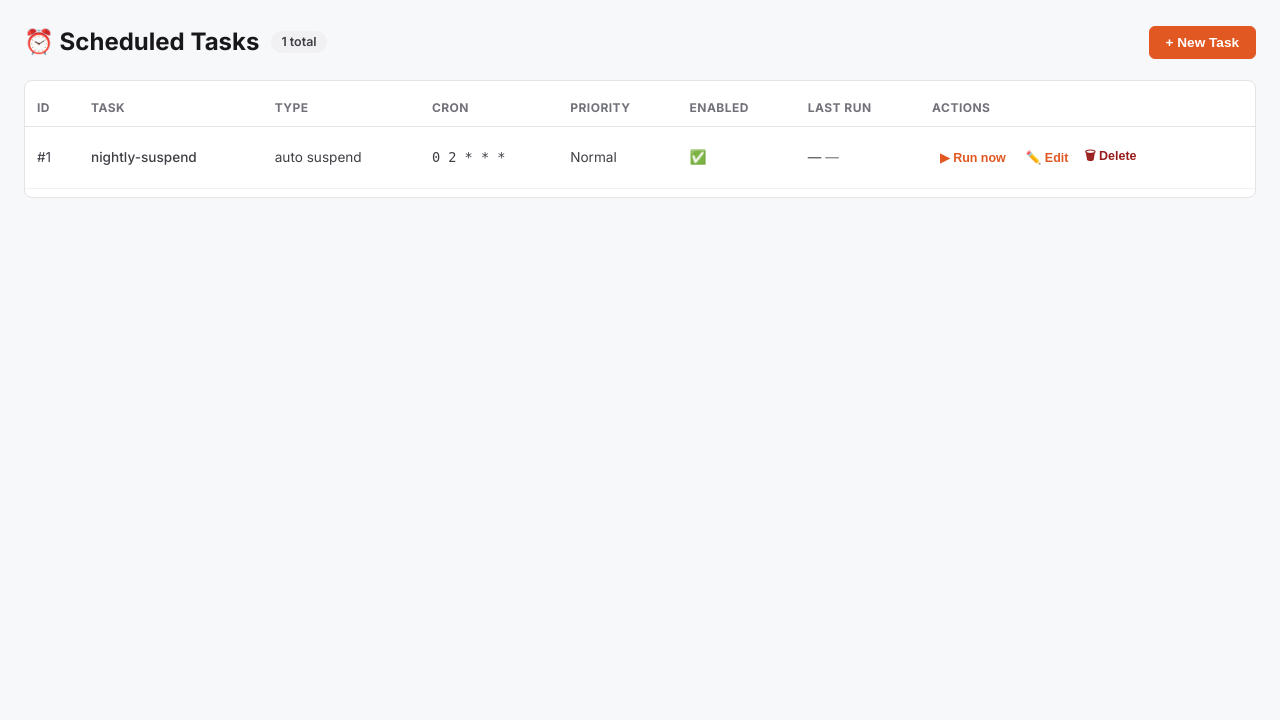
Scenario: ScheduledTaskList page › confirms, shows pending state, runs the selected task, and renders its result
Click the button "▶ Run now".
click(973, 158)  # box [932, 138, 1014, 178]
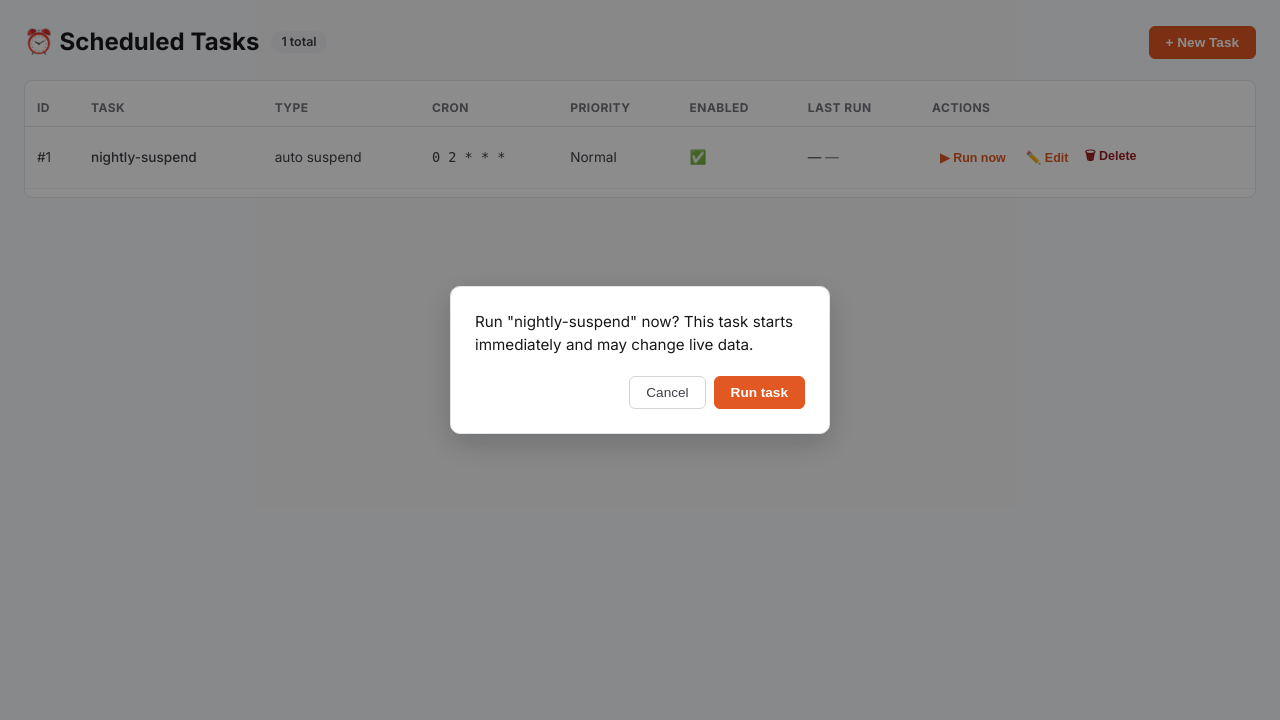
Result: the dialog named "Run scheduled task" shows "Run \"nightly-suspend\" now" at [475, 312, 793, 354]
Click the button "Run task".
click(759, 393)  # box [714, 376, 805, 409]
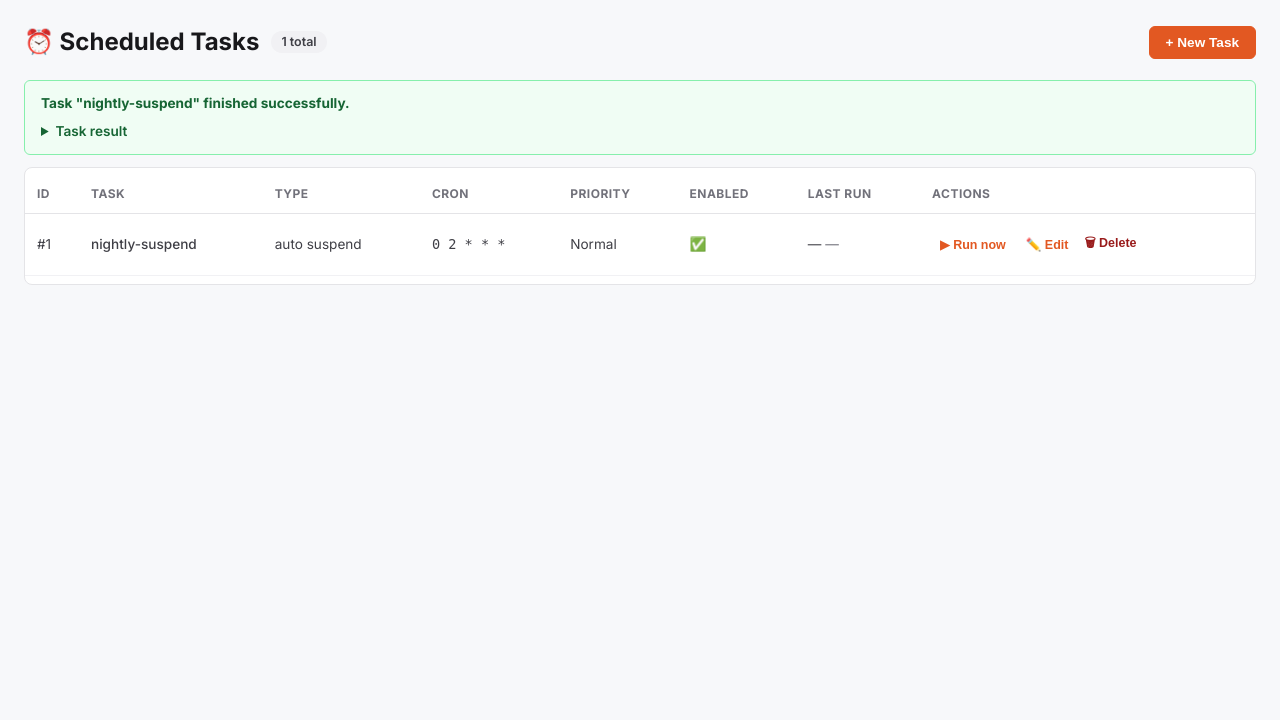
Result: the message shows "Task \"nightly-suspend\" finished successfully." at [41, 95, 350, 111]
